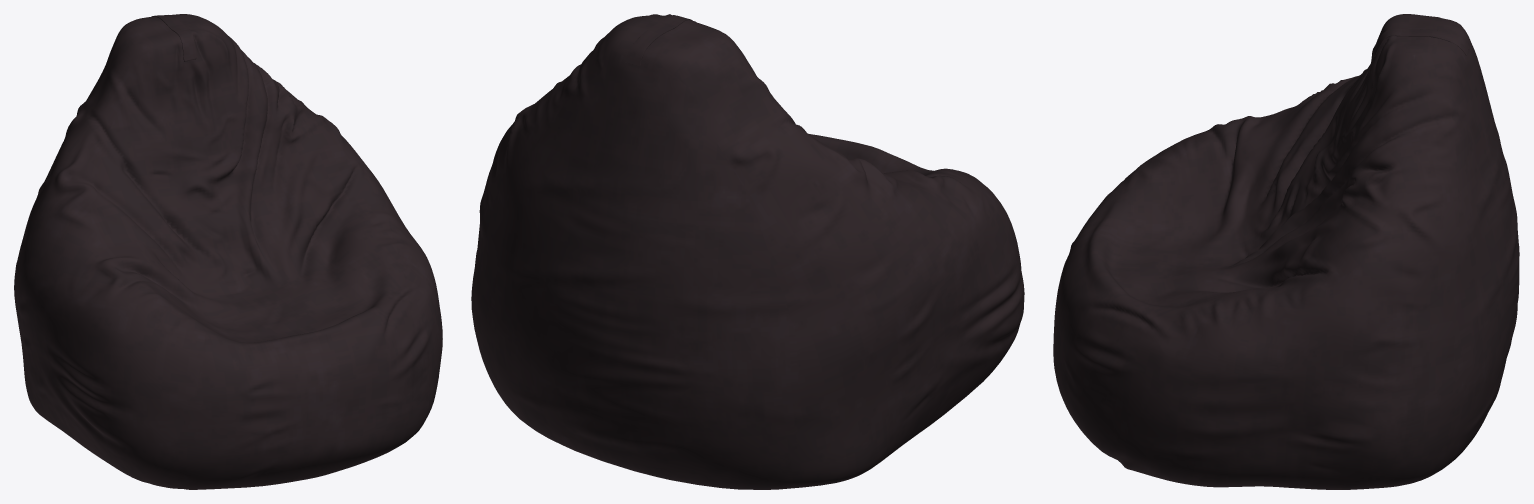
File: abo-B08BGFJZR2.glb
3 renders of one model, left to right at view 1: azimuth 30°, elevation 25°; view 2: azimuth 150°, elevation 25°; view 3: azimuth 270°, elevation 25°, orthographic. The views are drawn at different scales.
Size of the model in its own units: 1.07 by 0.9899 by 1.07.
1 material, 1 textured.
